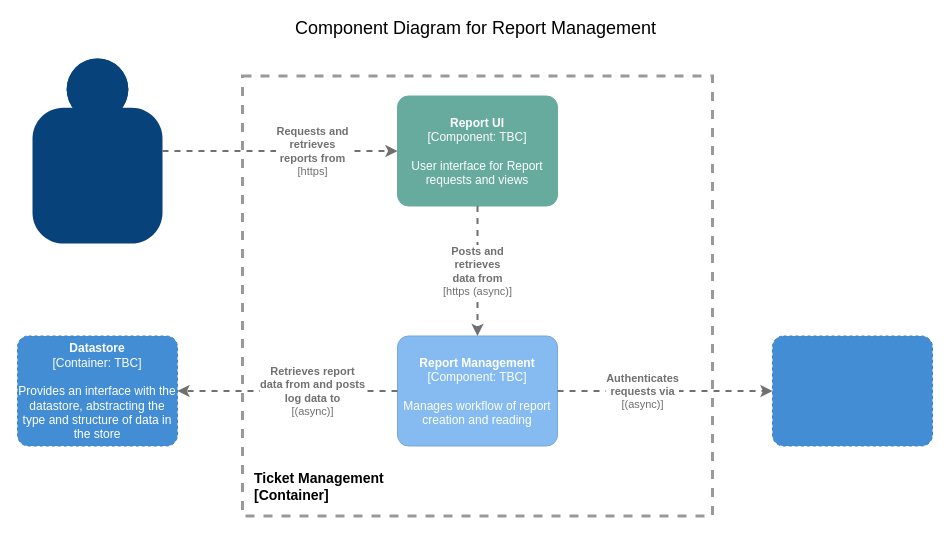
Some shapes in this 950 by 534 pixel diagram are drawn without their labels. Here are the shapes that lost their labels. From the top down, the box of each, then its label:
(32, 58, 162, 243): Manager [Person] Member of Sysops Squad who requests and acts on reports
(772, 335, 932, 446): Authentication [Container: TBC] Manages authentication within the system
